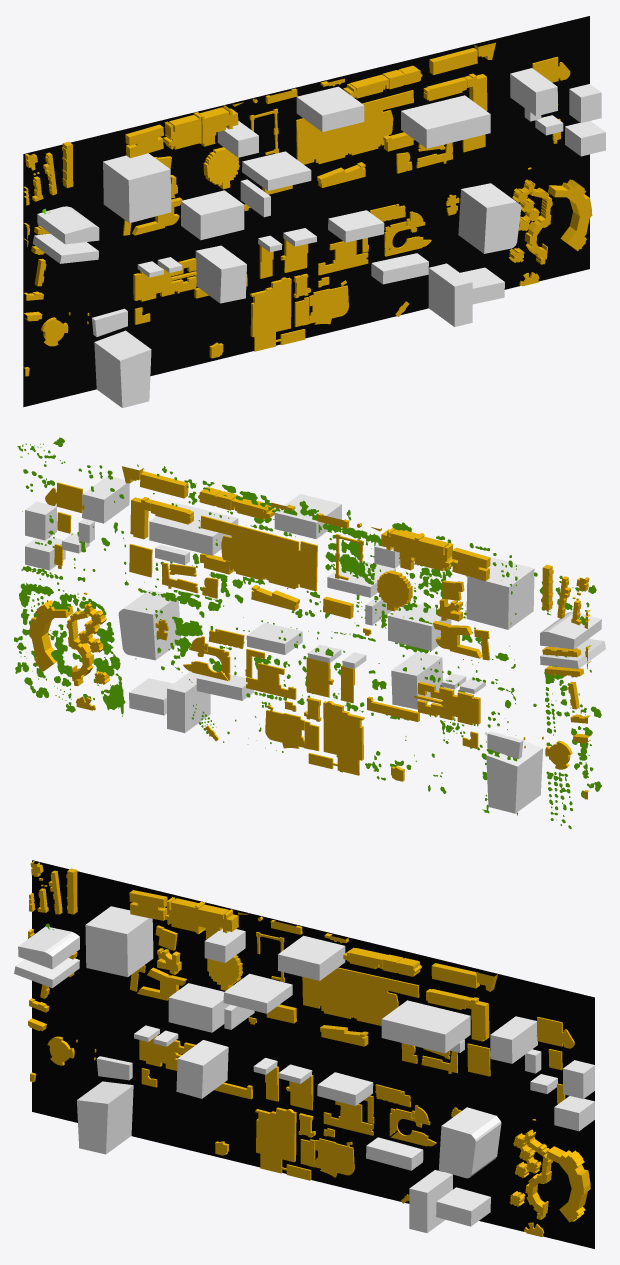
The model's file is new_high_buildings_06.glb.
The picture shows the model from 3 angles, top to bottom: view 1: azimuth 30°, elevation 25°; view 2: azimuth 150°, elevation 25°; view 3: azimuth 330°, elevation 25°; orthographic projection.
Visible parts, largest first — view 1: Layer 04, new buildings, existing_building - Copy; view 2: existing_building - Copy, new buildings, treesurface; view 3: Layer 04, new buildings, existing_building - Copy.
Part boxes in pixels (x1=…): Layer 04: x1=23, y1=16, x2=589, y2=407; new buildings: x1=32, y1=68, x2=605, y2=407; existing_building - Copy: x1=24, y1=42, x2=592, y2=376; existing_building - Copy: x1=29, y1=466, x2=591, y2=799; new buildings: x1=25, y1=476, x2=605, y2=813; treesurface: x1=14, y1=437, x2=601, y2=828; Layer 04: x1=32, y1=860, x2=594, y2=1248; new buildings: x1=14, y1=906, x2=594, y2=1233; existing_building - Copy: x1=28, y1=861, x2=590, y2=1236.
Size of the model in its own units: 1035 by 458 by 84.18.
